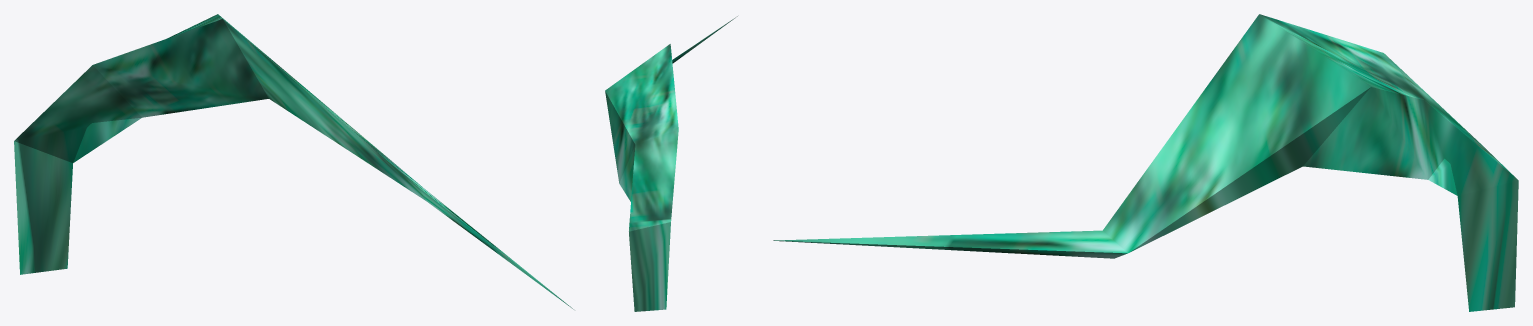
Rendered from H1_BluePlant_Branch_12.gltf.
3 views of the same model, side by side, from view 1: azimuth 30°, elevation 25°; view 2: azimuth 150°, elevation 25°; view 3: azimuth 270°, elevation 25° (orthographic). The views are drawn at different scales.
Parts seen in each view (by area): view 1: H1_BluePlant_Branch_12; view 2: H1_BluePlant_Branch_12; view 3: H1_BluePlant_Branch_12.
Part boxes in pixels (<box>): H1_BluePlant_Branch_12: <box>14,14,573,309</box>; H1_BluePlant_Branch_12: <box>605,16,737,311</box>; H1_BluePlant_Branch_12: <box>773,14,1518,311</box>.
Size of the model in its own units: 2.6 by 3.14 by 6.52.
Materials: 1 (1 with a texture image).
